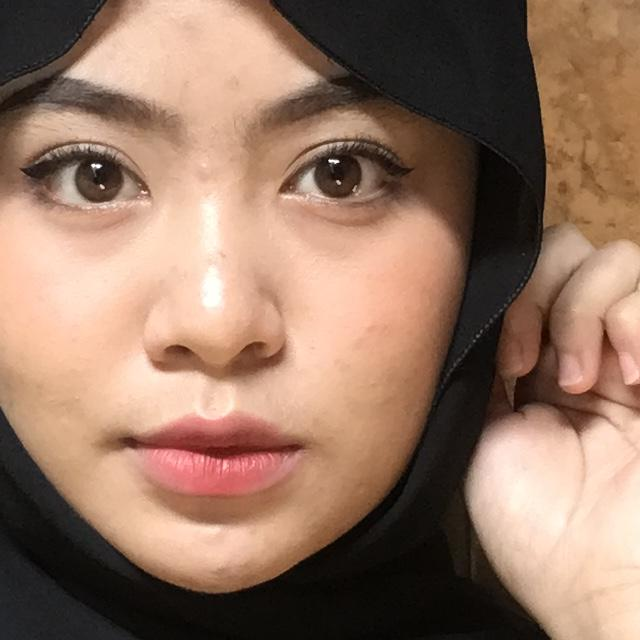ibu: (420, 216, 640, 640)
